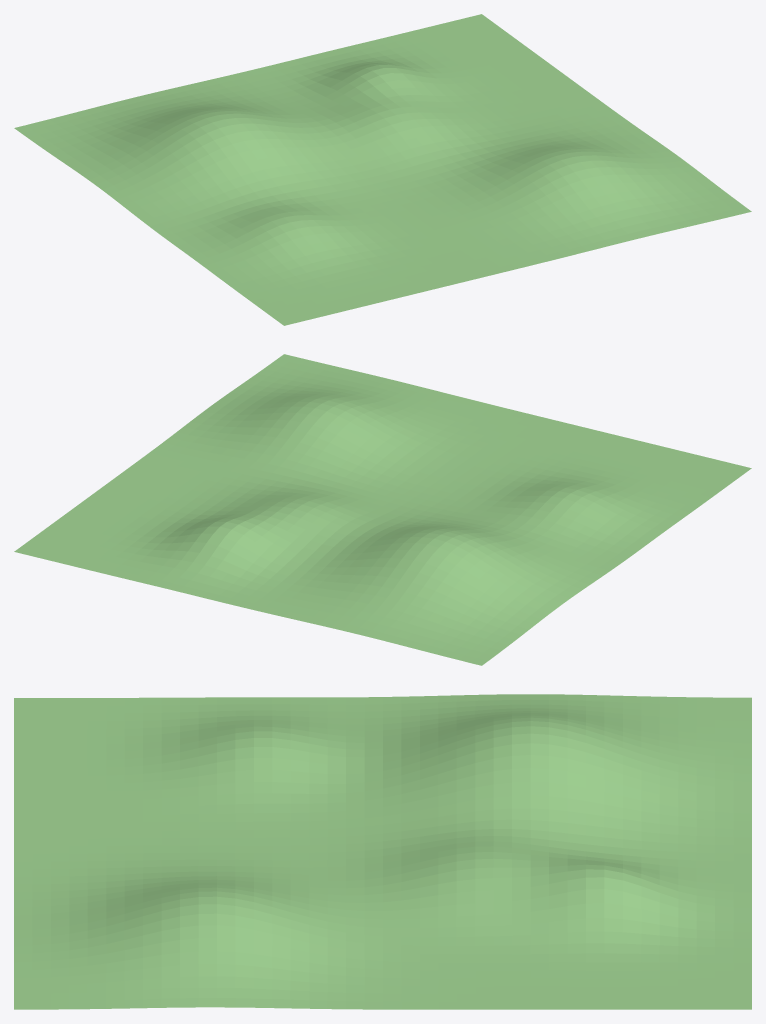
The model's file is terrain.glb.
3 renders of one model, top to bottom at view 1: azimuth 30°, elevation 25°; view 2: azimuth 150°, elevation 25°; view 3: azimuth 270°, elevation 25°, orthographic. The views are drawn at different scales.
Parts seen in each view (by area): view 1: terrain_mesh; view 2: terrain_mesh; view 3: terrain_mesh.
Boxes of the visible parts, x1,y1,x2,y2 form: terrain_mesh: (14, 14, 751, 325); terrain_mesh: (14, 354, 751, 665); terrain_mesh: (14, 694, 751, 1009).
Bounding box in the file's own units: 60 × 4.49 × 60.
